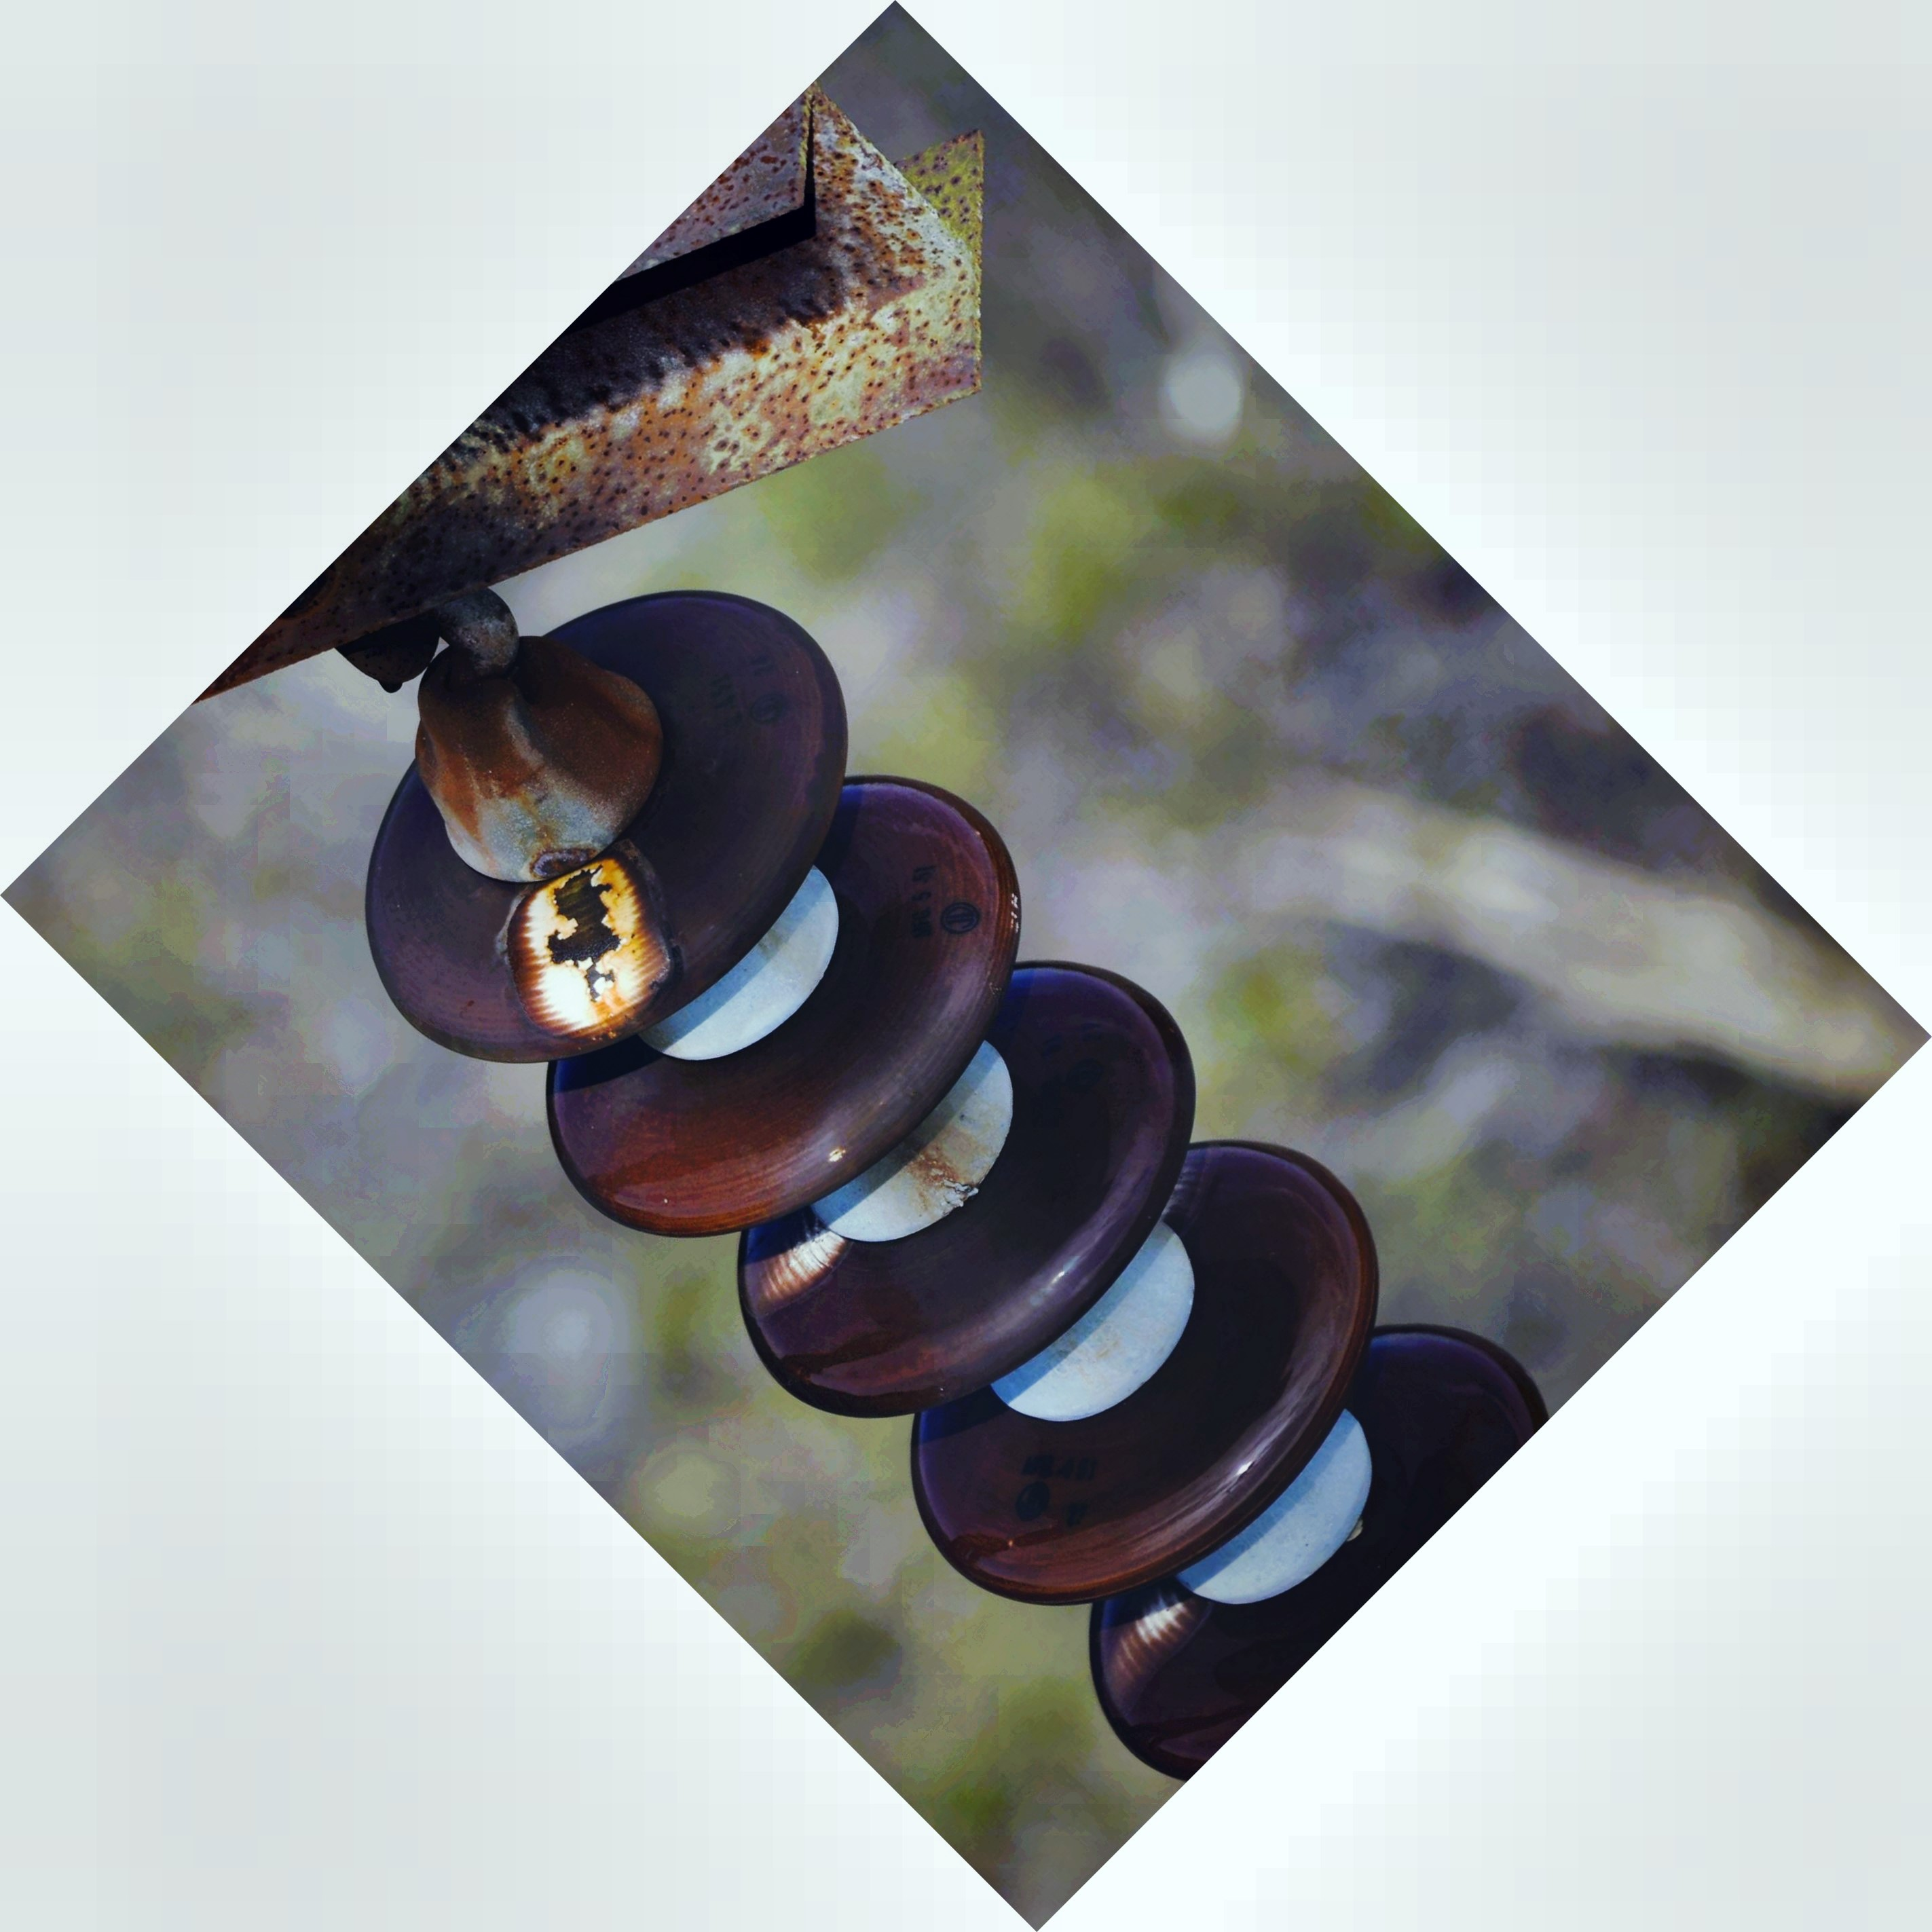Insulator flashover: (303, 568, 878, 1070)
